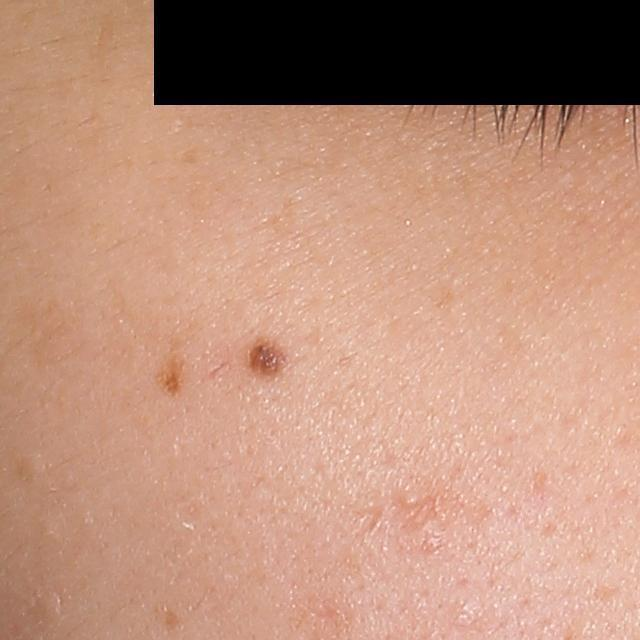atrophic_scar: (391, 494, 441, 535)
nevus: (241, 336, 288, 382)
